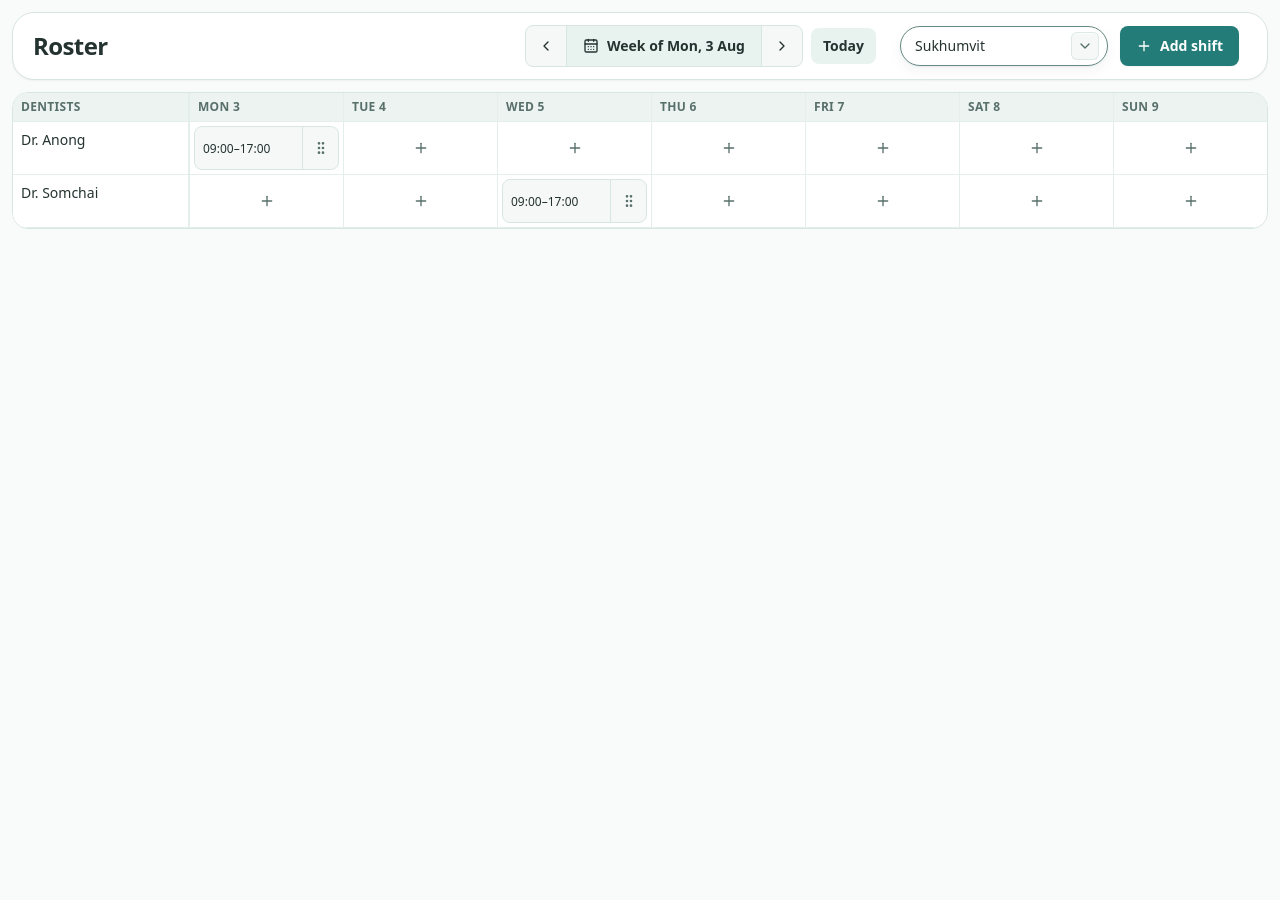
it: roster drag › refuses a drop that leaves a confirmed appointment outside the shift
Press the mouse on the button named "Move Dr. Anong shift" at (320, 148), box [302,127,338,169]
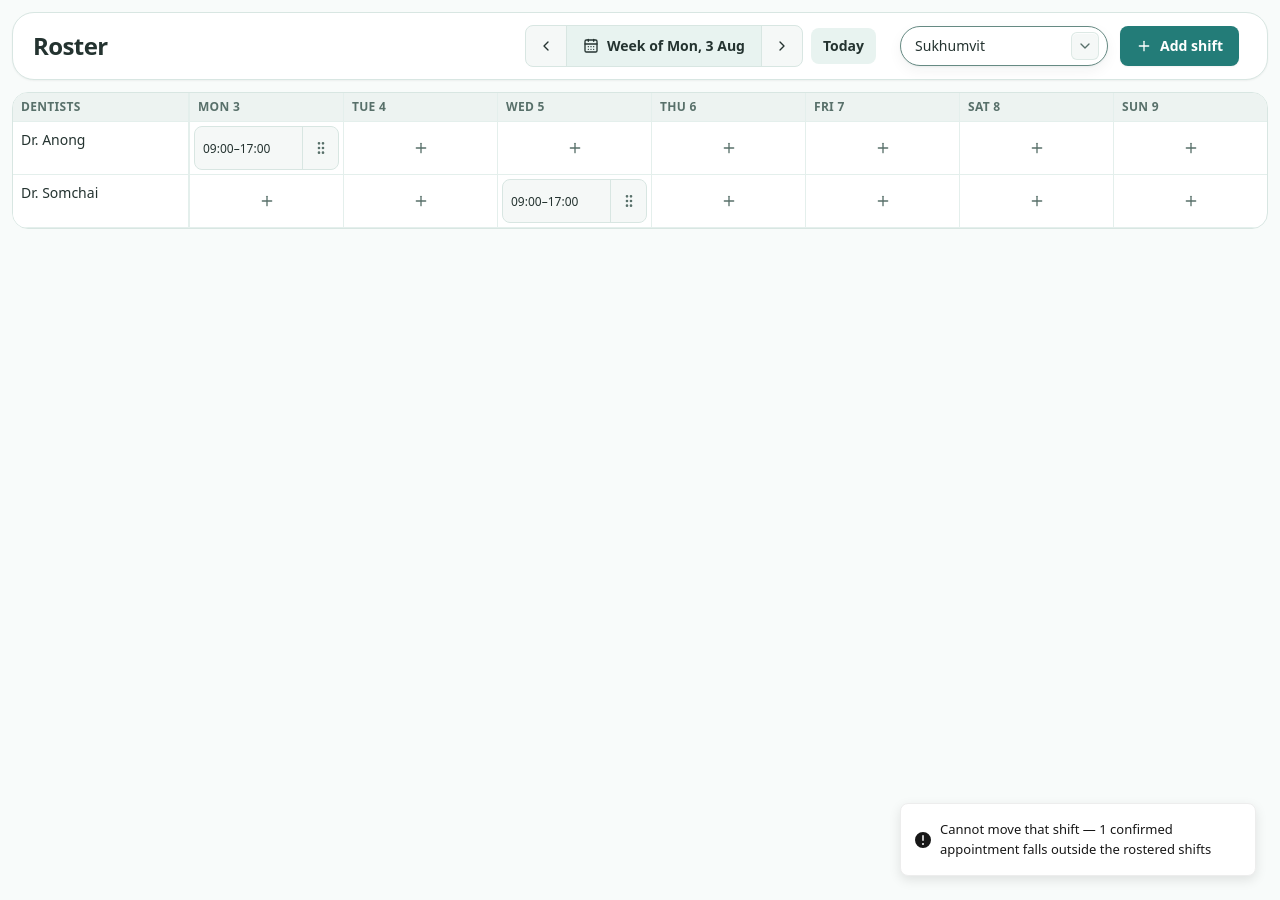
Expected: the text "Cannot move that shift — 1 confirmed appointment falls outside the rostered shifts" is shown, [940,820,1211,858]
